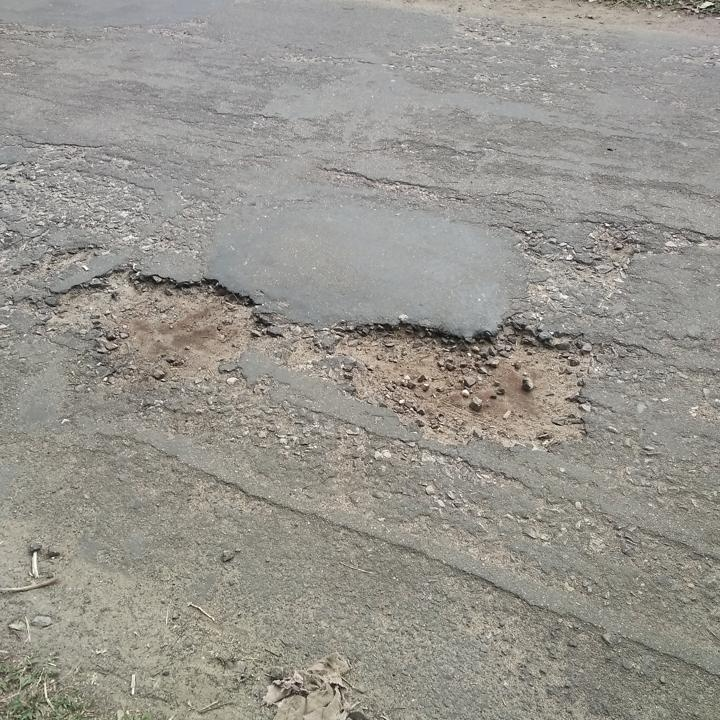pothole: (307, 315, 598, 453), (36, 261, 280, 384)
